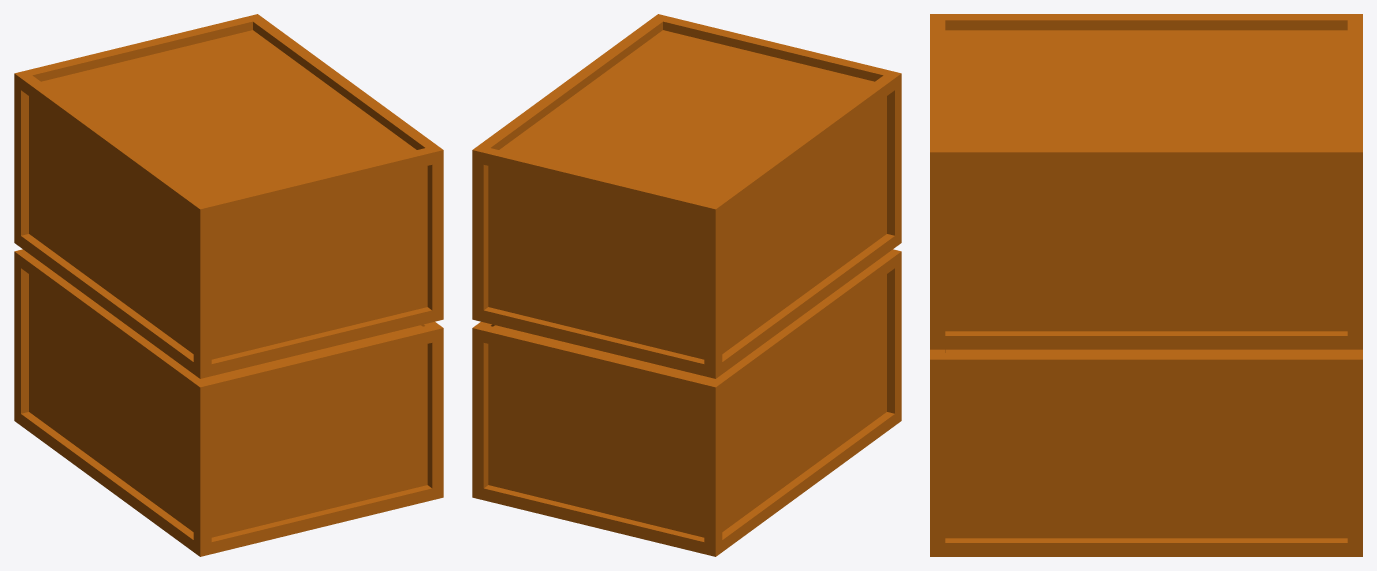
File: Prop_Boxes_F.fbx
The picture shows the model from 3 angles, left to right: view 1: azimuth 30°, elevation 25°; view 2: azimuth 150°, elevation 25°; view 3: azimuth 270°, elevation 25°; orthographic projection. The views are drawn at different scales.
Visible parts, largest first — view 1: Prop_Boxes_F; view 2: Prop_Boxes_F; view 3: Prop_Boxes_F.
Part boxes in pixels (<box>): Prop_Boxes_F: <box>14,14,443,556</box>; Prop_Boxes_F: <box>472,14,901,556</box>; Prop_Boxes_F: <box>930,14,1362,556</box>.
Size of the model in its own units: 77.66 by 58.74 by 80.14.
